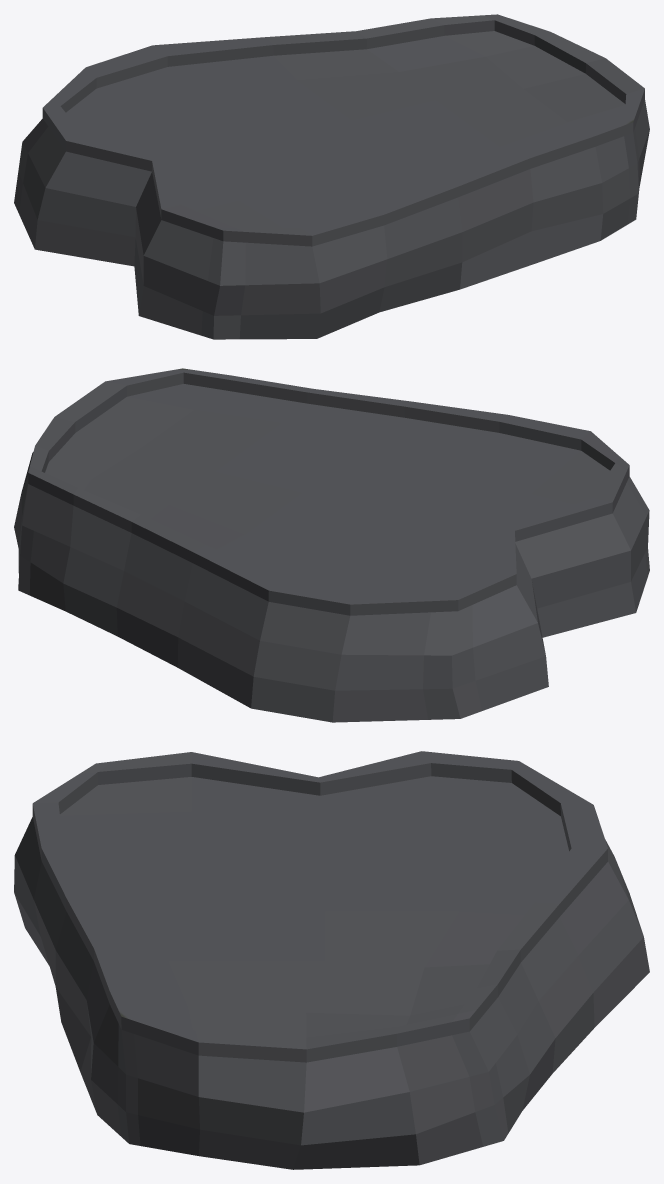
Rendered from Slab7.glb.
3 renders of one model, top to bottom at view 1: azimuth 30°, elevation 25°; view 2: azimuth 150°, elevation 25°; view 3: azimuth 270°, elevation 25°, orthographic. The views are drawn at different scales.
Visible parts, largest first — view 1: Slab7; view 2: Slab7; view 3: Slab7.
Boxes of the visible parts, x1,y1,x2,y2 form: Slab7: (14, 14, 649, 339); Slab7: (14, 368, 649, 722); Slab7: (14, 751, 649, 1169).
Bounding box in the file's own units: 2.89 × 0.5526 × 2.38.
Materials: 1 (1 with a texture image).
